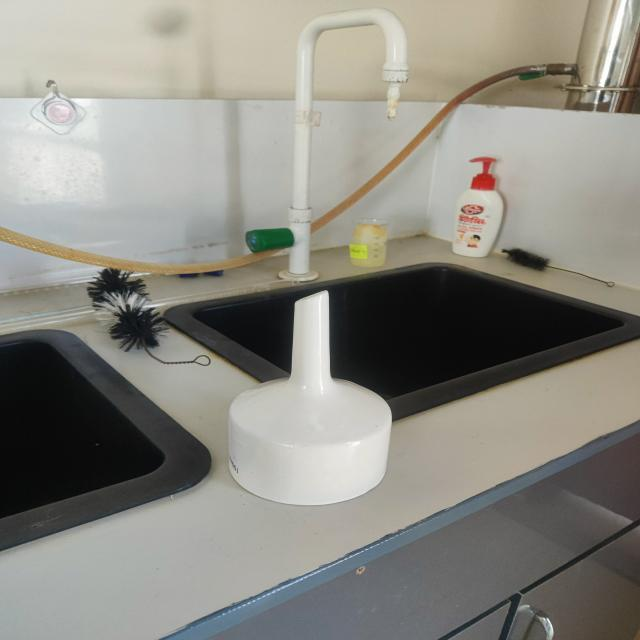Buchner_Funnel: (192, 259, 428, 522)
